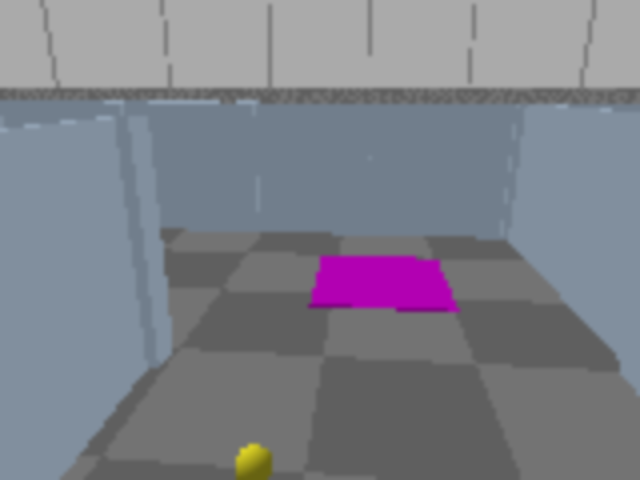goal_zone: (310, 255, 459, 313)
puck: (225, 432, 281, 478)
